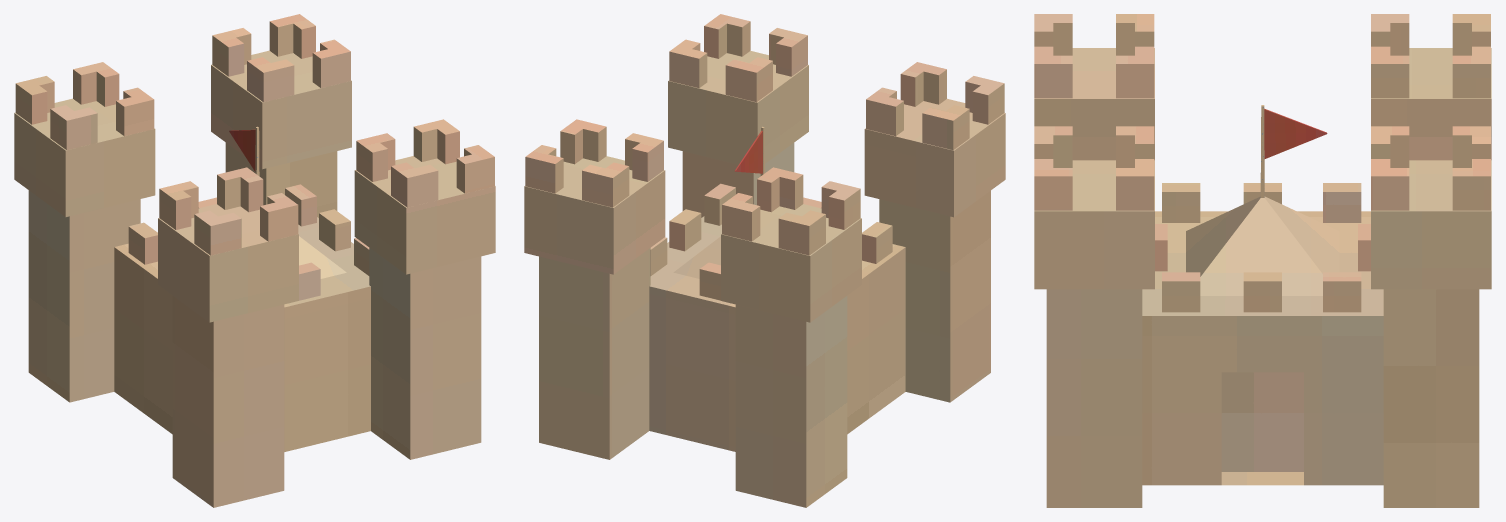
File: CHAHIN_SAND_CASTLE.fbx
3 renders of one model, left to right at view 1: azimuth 30°, elevation 25°; view 2: azimuth 150°, elevation 25°; view 3: azimuth 270°, elevation 25°, orthographic. The views are drawn at different scales.
Visible parts, largest first — view 1: CHAHIN_SAND_CASTLE; view 2: CHAHIN_SAND_CASTLE; view 3: CHAHIN_SAND_CASTLE.
Part boxes in pixels (x1,y1,x2,y2): CHAHIN_SAND_CASTLE: [14, 14, 495, 507]; CHAHIN_SAND_CASTLE: [524, 14, 1005, 507]; CHAHIN_SAND_CASTLE: [1034, 14, 1491, 507].
Bounding box in the file's own units: 165 × 159 × 196.
